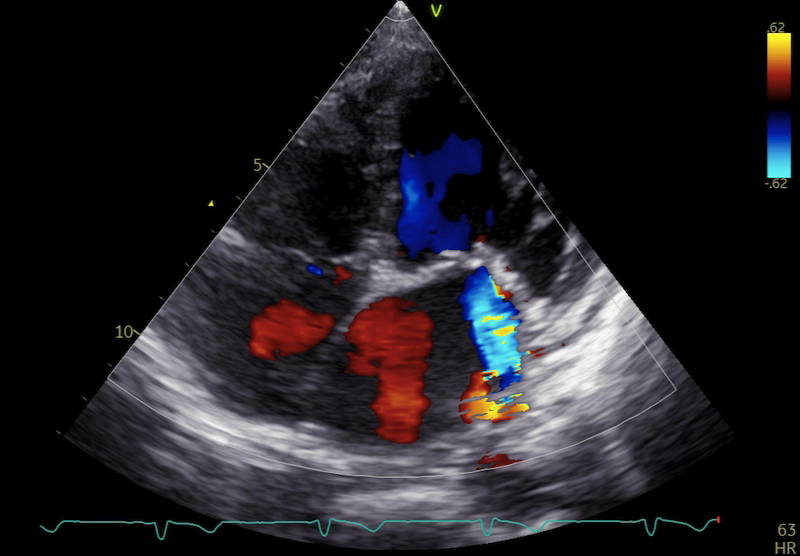MR: (405, 242, 523, 337)
